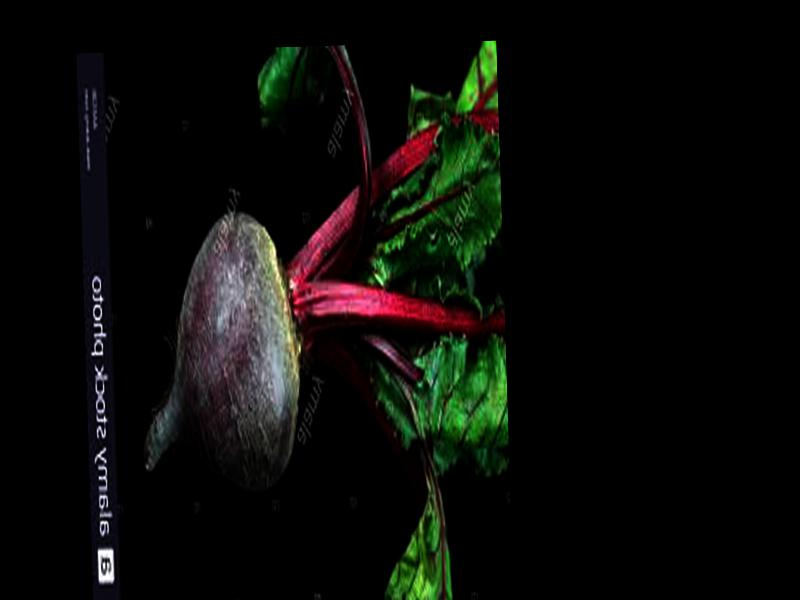Beet: (131, 40, 511, 600)
